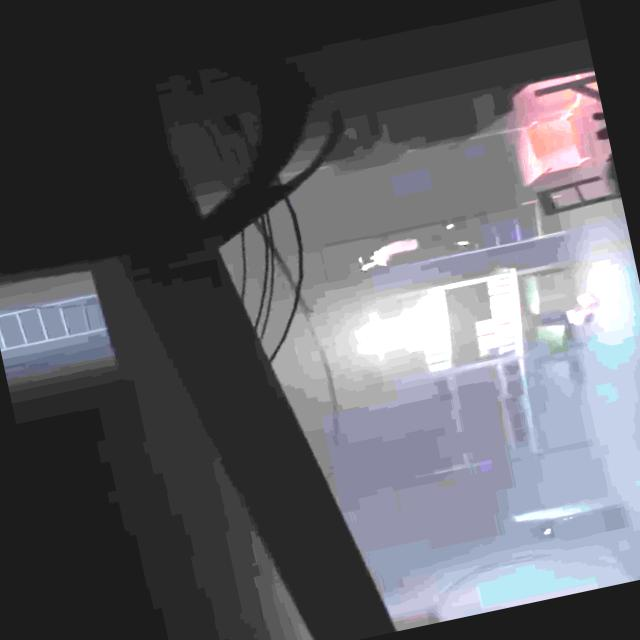boy: (352, 214, 466, 272)
